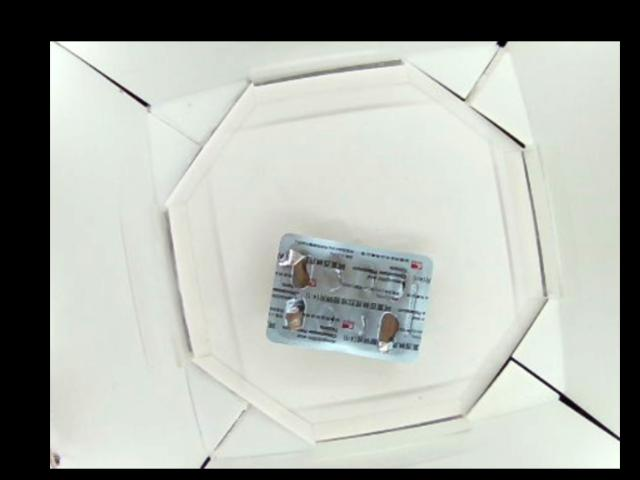Medicine: (263, 230, 436, 363)
